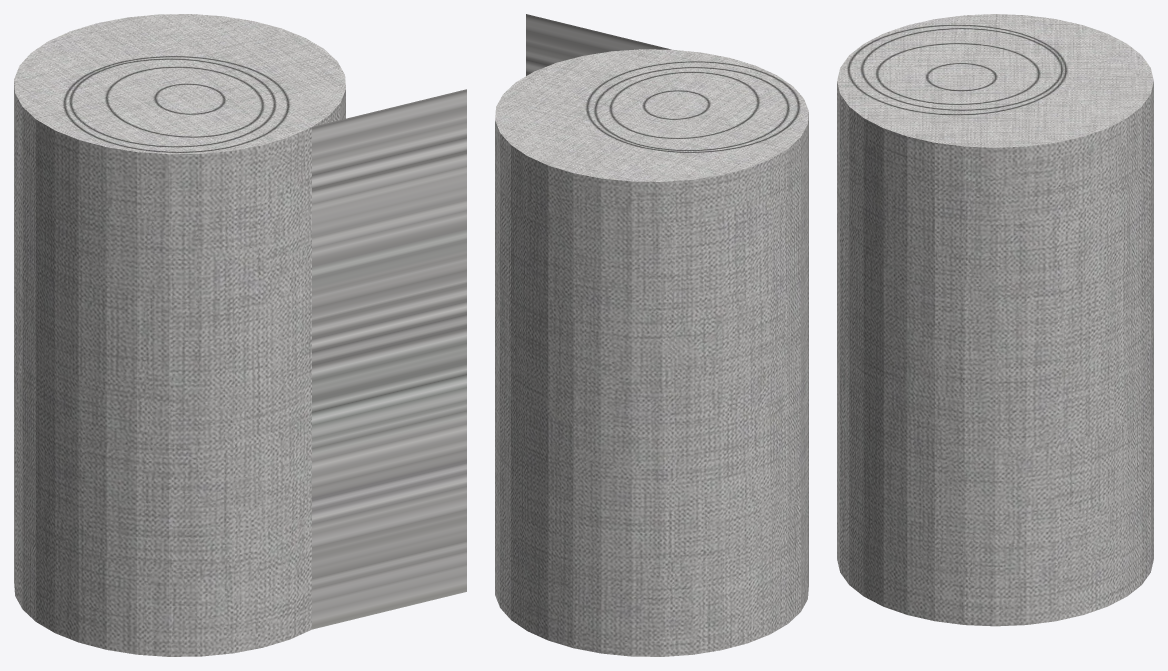
Rendered from kasa.glb.
3 views of the same model, side by side, from view 1: azimuth 30°, elevation 25°; view 2: azimuth 150°, elevation 25°; view 3: azimuth 270°, elevation 25° (orthographic). The views are drawn at different scales.
Parts seen in each view (by area): view 1: Cylinder; view 2: Cylinder; view 3: Cylinder.
Part boxes in pixels (x1,y1,x2,y2): Cylinder: (14, 14, 466, 656); Cylinder: (495, 14, 808, 656); Cylinder: (837, 14, 1153, 626).
Bounding box in the file's own units: 0.0369 × 0.05 × 0.03.
Materials: 1 (1 with a texture image).
